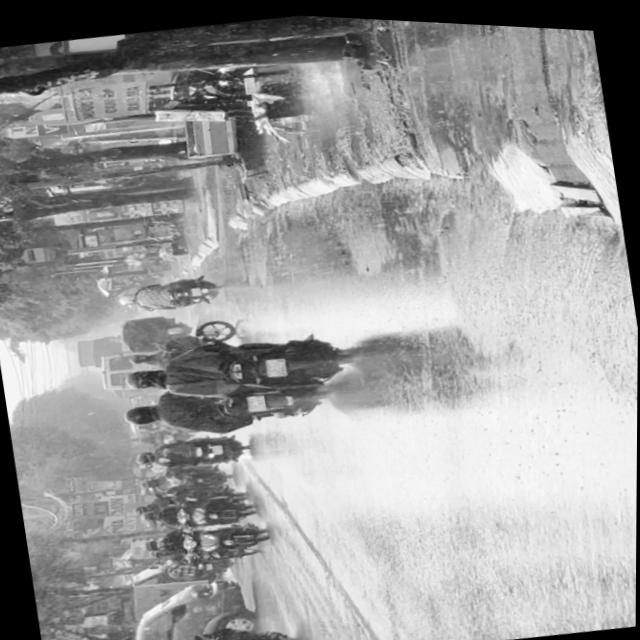helmet: (123, 365, 164, 392), (122, 401, 160, 428)
licenseplate: (117, 313, 357, 417), (118, 365, 328, 450), (157, 615, 304, 640)
nohelmet: (264, 354, 288, 376), (246, 391, 266, 410)
